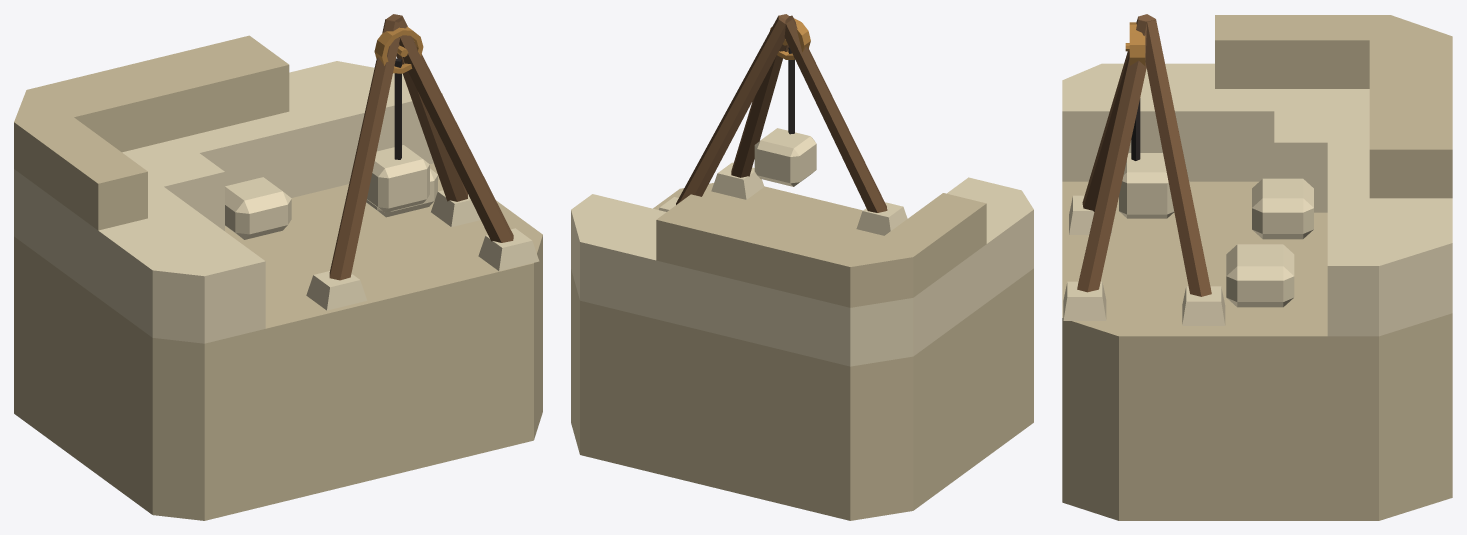
File: ns-quarry-frame.glb
3 views of the same model, side by side, from view 1: azimuth 30°, elevation 25°; view 2: azimuth 150°, elevation 25°; view 3: azimuth 270°, elevation 25° (orthographic). The views are drawn at different scales.
Visible parts, largest first — view 1: Stone bench; view 2: Stone bench; view 3: Stone bench.
Boxes of the visible parts, left/top/right/bottom form: Stone bench: left=14, top=14, right=542, bottom=520; Stone bench: left=571, top=14, right=1033, bottom=520; Stone bench: left=1062, top=14, right=1452, bottom=520.
Size of the model in its own units: 0.847 by 0.8474 by 0.69.
